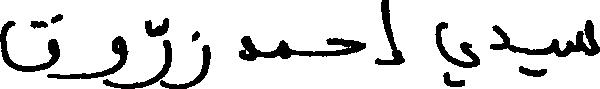X: (0, 9, 58, 83), (128, 13, 171, 88), (436, 17, 480, 88), (173, 26, 211, 88), (382, 0, 404, 69), (571, 15, 599, 60), (328, 33, 366, 60), (111, 31, 126, 88), (490, 20, 508, 54), (240, 31, 255, 65), (278, 35, 292, 63), (553, 34, 559, 61)
